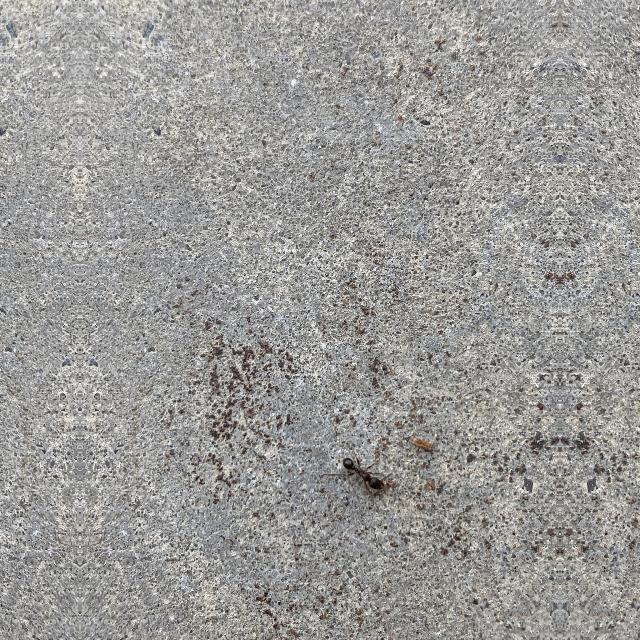Tetramorium: (327, 439, 391, 503)
